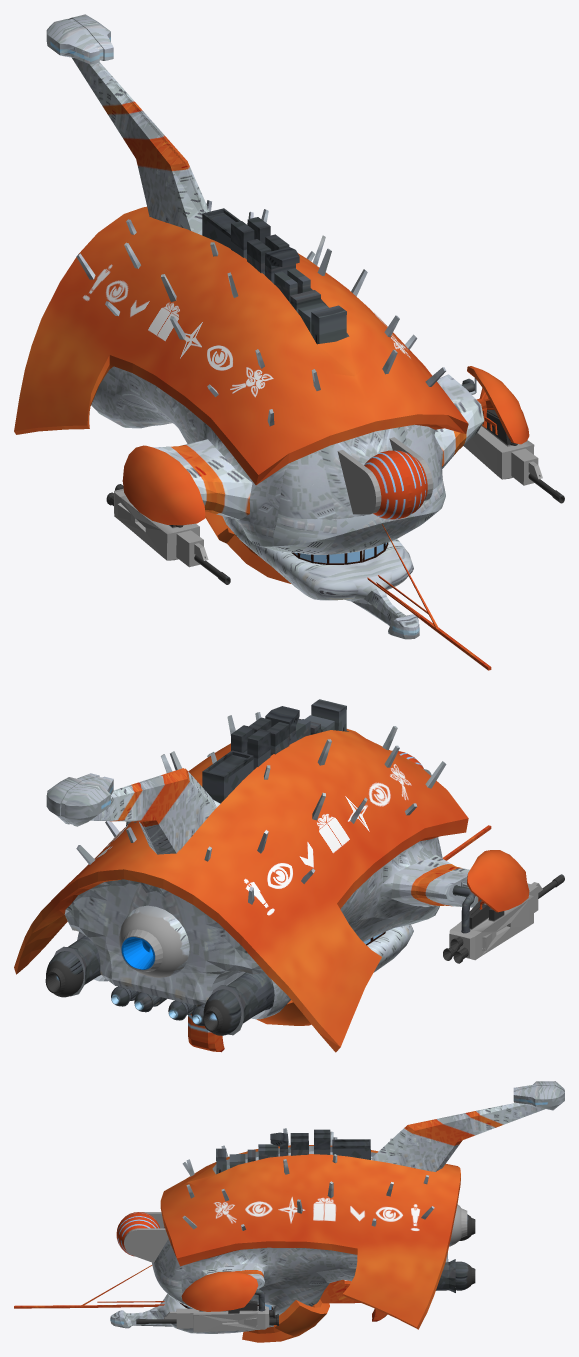
File: Hammerhead.fbx
3 views of the same model, one above another, from view 1: azimuth 30°, elevation 25°; view 2: azimuth 150°, elevation 25°; view 3: azimuth 270°, elevation 25° (orthographic). The views are drawn at different scales.
Parts seen in each view (by area): view 1: Box18; view 2: Box18; view 3: Box18.
Boxes of the visible parts, box(x1,y1,x2,y2) form: Box18: box(14, 14, 564, 670); Box18: box(14, 699, 564, 1052); Box18: box(14, 1081, 564, 1342).
Bounding box in the file's own units: 9.75 × 9.52 × 18.91.
1 material, 1 textured.
